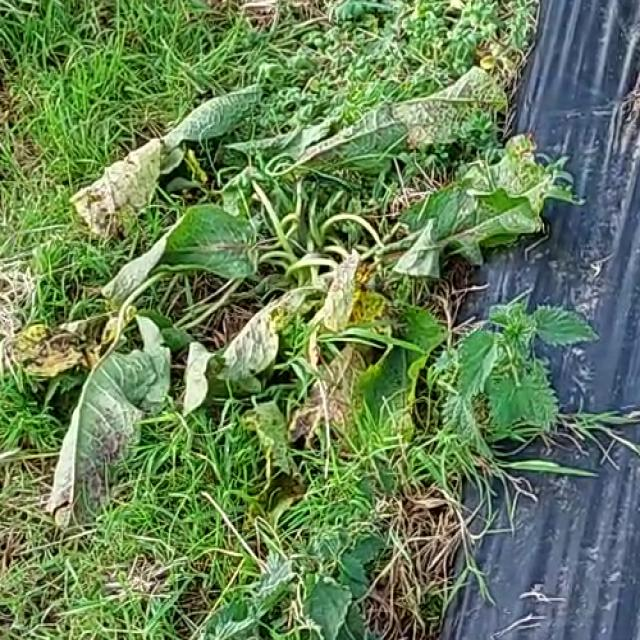organic waste: (46, 74, 558, 525)
